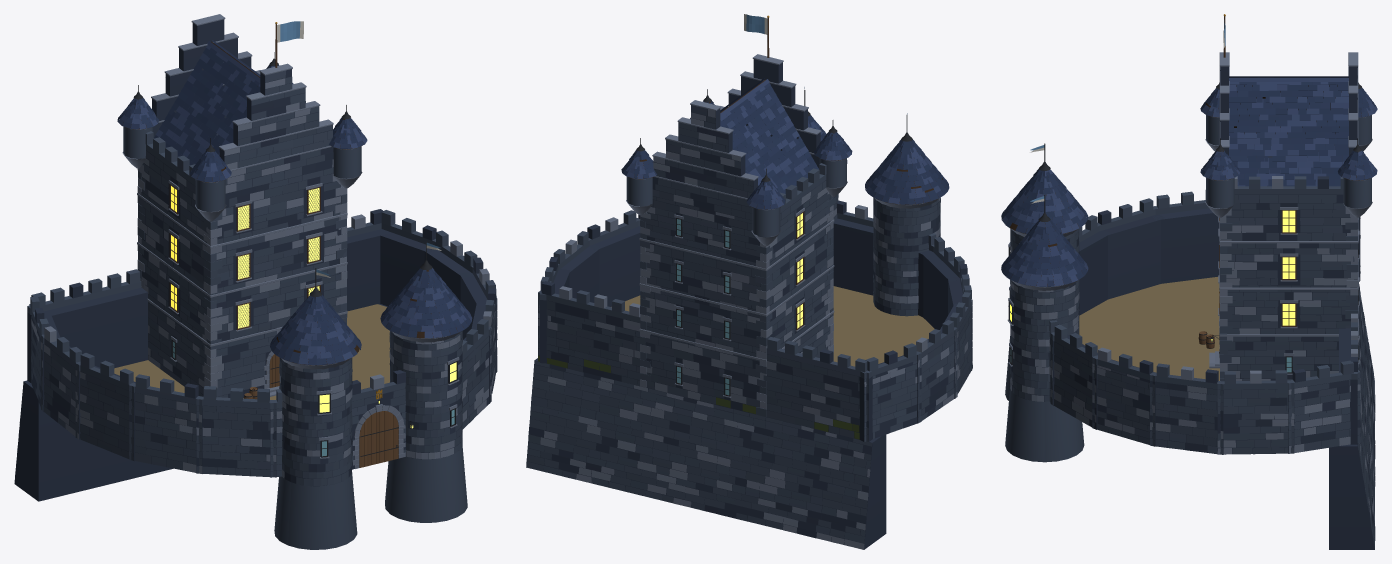
Rendered from castle_keep.glb.
3 views of the same model, side by side, from view 1: azimuth 30°, elevation 25°; view 2: azimuth 150°, elevation 25°; view 3: azimuth 270°, elevation 25° (orthographic). The views are drawn at different scales.
Visible parts, largest first — view 1: isl_castle_keep; view 2: isl_castle_keep; view 3: isl_castle_keep.
Boxes of the visible parts, x1,y1,x2,y2 form: isl_castle_keep: [14, 14, 497, 549]; isl_castle_keep: [526, 14, 972, 549]; isl_castle_keep: [1001, 14, 1377, 549].
Size of the model in its own units: 30.92 by 34.83 by 26.34.
